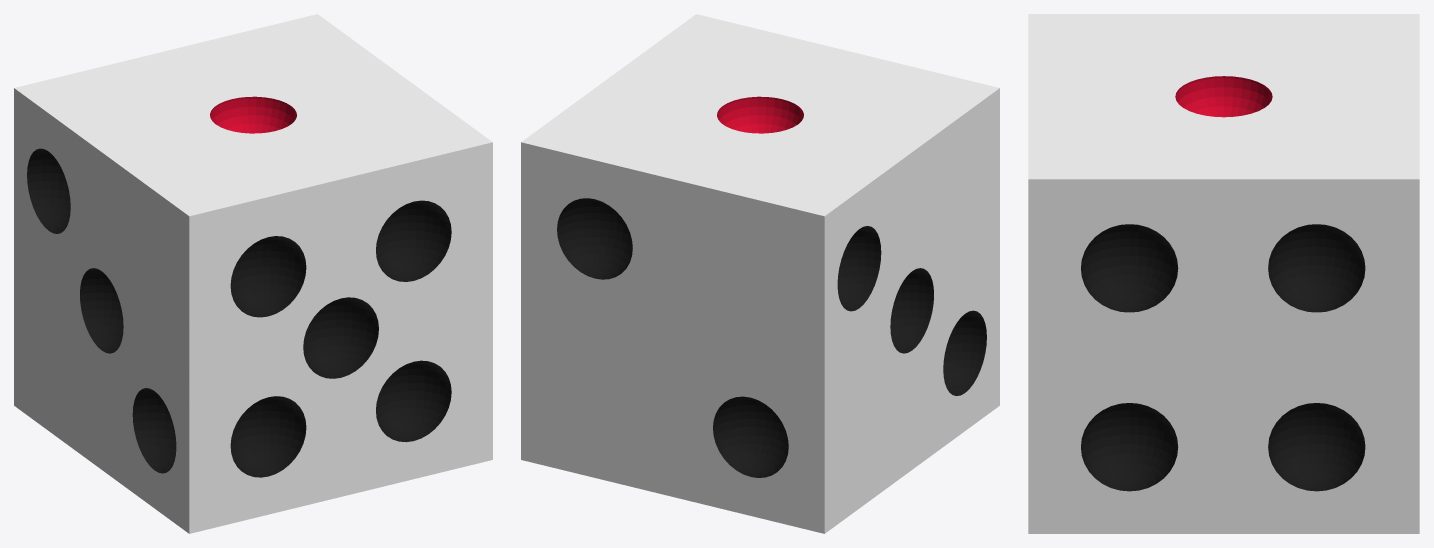
File: dice.obj
3 renders of one model, left to right at view 1: azimuth 30°, elevation 25°; view 2: azimuth 150°, elevation 25°; view 3: azimuth 270°, elevation 25°, orthographic. The views are drawn at different scales.
Visible parts, largest first — view 1: 立方体; view 2: 立方体; view 3: 立方体.
Boxes of the visible parts, x1,y1,x2,y2 form: 立方体: (14,14,492,533); 立方体: (521,14,999,533); 立方体: (1028,14,1419,533).
Bounding box in the file's own units: 2 × 2 × 2.
Materials: 1 (1 with a texture image).
